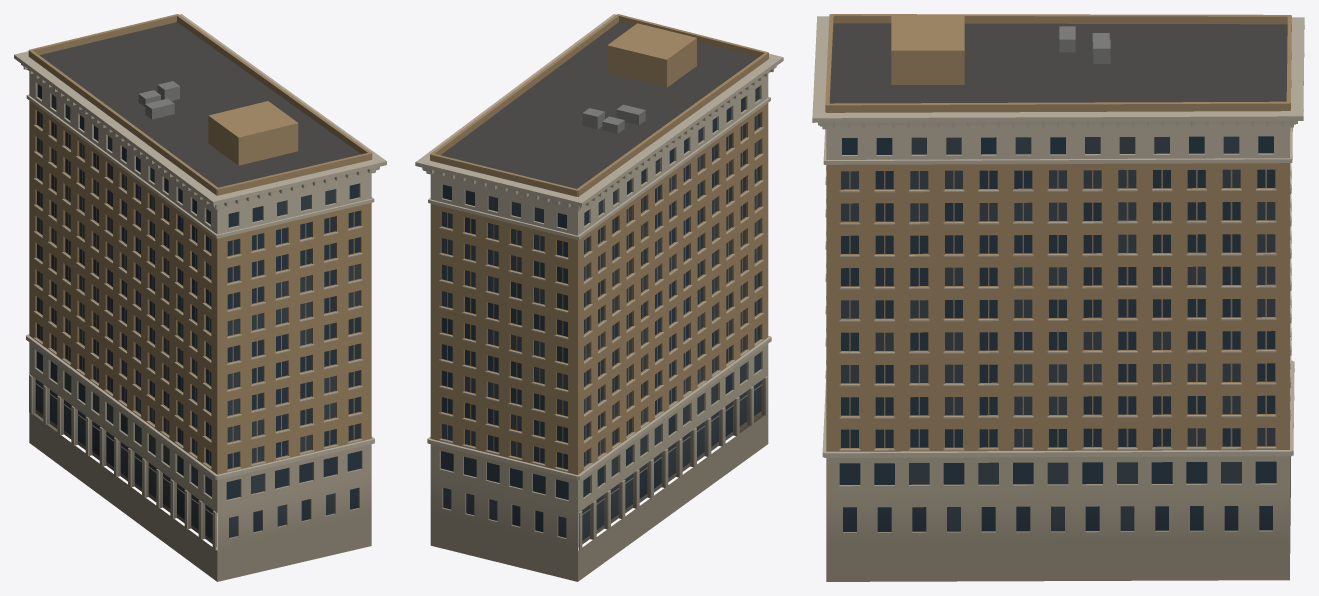
The model's file is putnam.glb.
3 renders of one model, left to right at view 1: azimuth 30°, elevation 25°; view 2: azimuth 150°, elevation 25°; view 3: azimuth 270°, elevation 25°, orthographic. The views are drawn at different scales.
Visible parts, largest first — view 1: putnam_lod0; view 2: putnam_lod0; view 3: putnam_lod0.
Part boxes in pixels (x1,y1,x2,y2): putnam_lod0: (14,14,386,581); putnam_lod0: (415,14,783,581); putnam_lod0: (812,14,1304,581).
Size of what is drawn, in the model's own units: 23.04 by 53 by 46.93.
